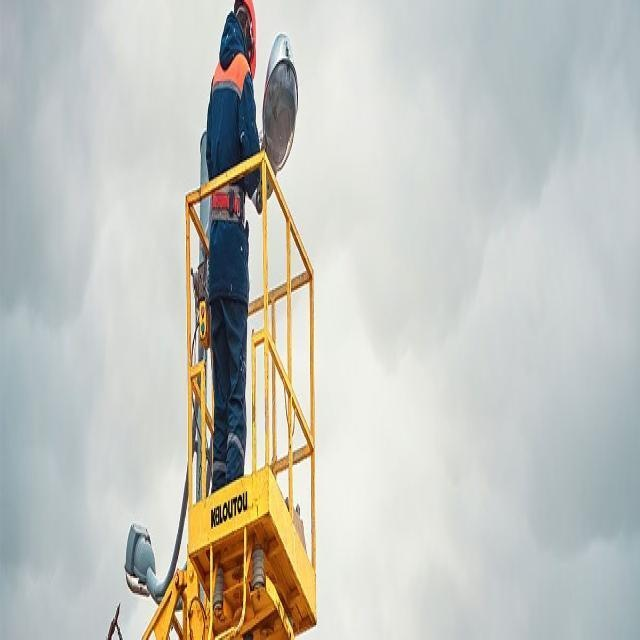Arnes_seguridad: (209, 184, 245, 222)
